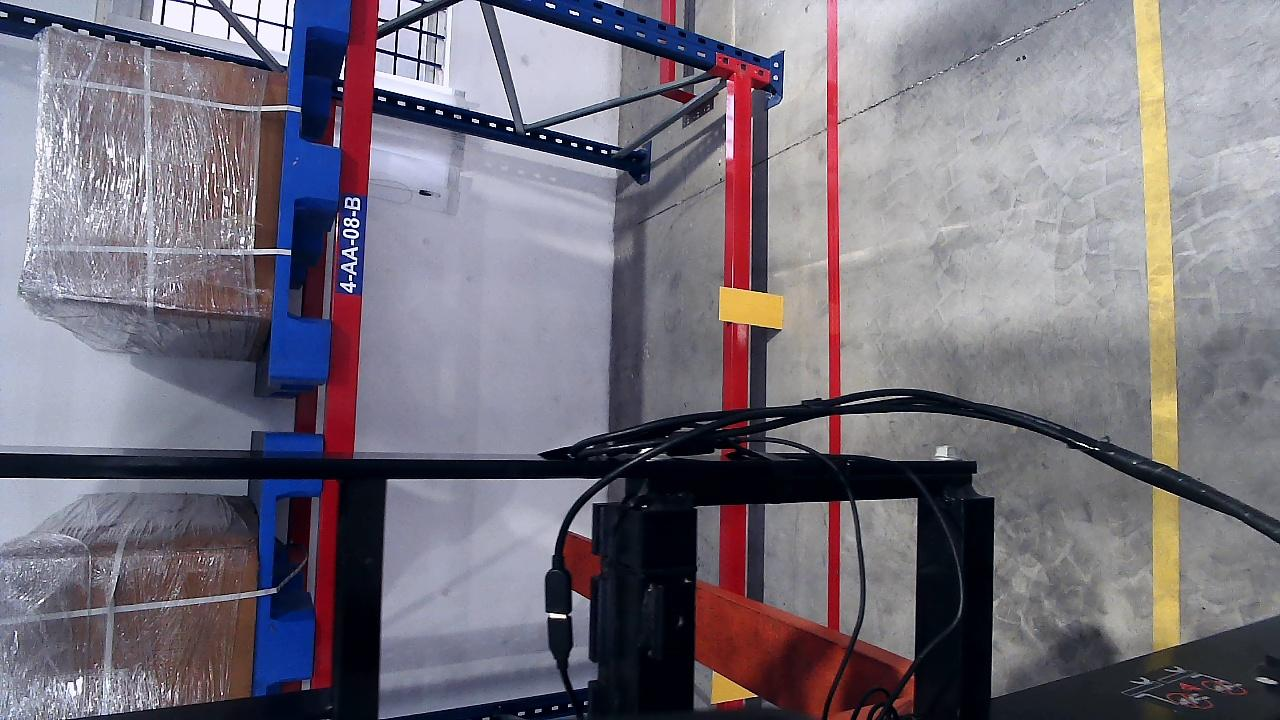h_rack: (343, 0, 380, 454), (728, 76, 755, 409)
orange_strip: (719, 285, 784, 328)
red_line: (822, 70, 844, 399)
small_pallet: (268, 0, 350, 379)
yellow_line: (1134, 1, 1181, 466), (1153, 447, 1180, 650)
